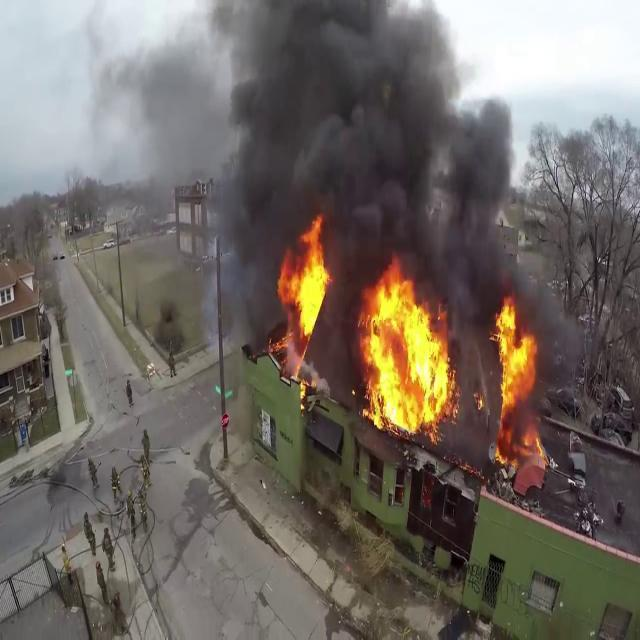Fire: (354, 268, 460, 438), (489, 295, 544, 453), (275, 215, 331, 345)
Smoke: (195, 0, 516, 292)
